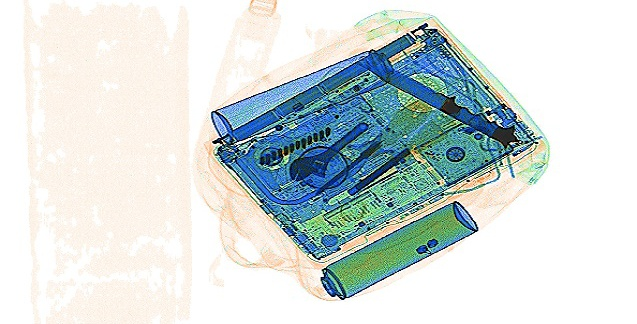knife: (351, 56, 520, 148)
pressure: (207, 47, 392, 145), (316, 197, 477, 299)
